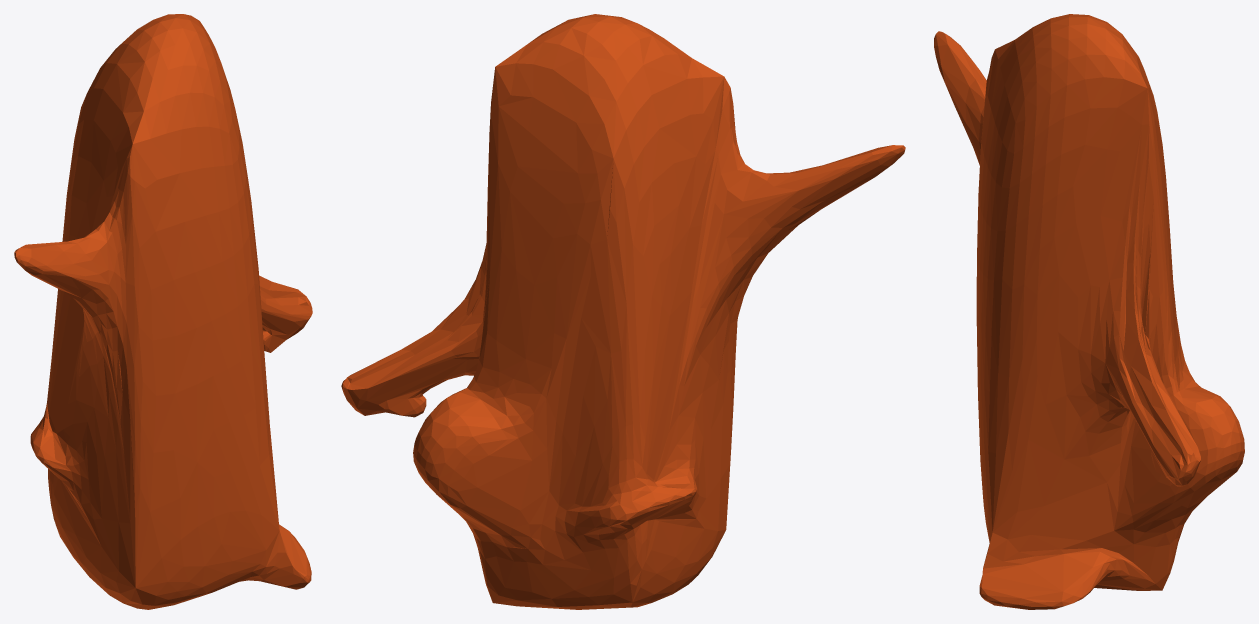
The picture shows the model from 3 angles, left to right: view 1: azimuth 30°, elevation 25°; view 2: azimuth 150°, elevation 25°; view 3: azimuth 270°, elevation 25°; orthographic projection. The views are drawn at different scales.
Visible parts, largest first — view 1: 718_Cube.2883; view 2: 718_Cube.2883; view 3: 718_Cube.2883.
Part boxes in pixels (x1,y1,x2,y2): 718_Cube.2883: (14, 14, 312, 609); 718_Cube.2883: (341, 14, 905, 609); 718_Cube.2883: (934, 14, 1244, 609).
Bounding box in the file's own units: 9.23 × 11.75 × 6.
